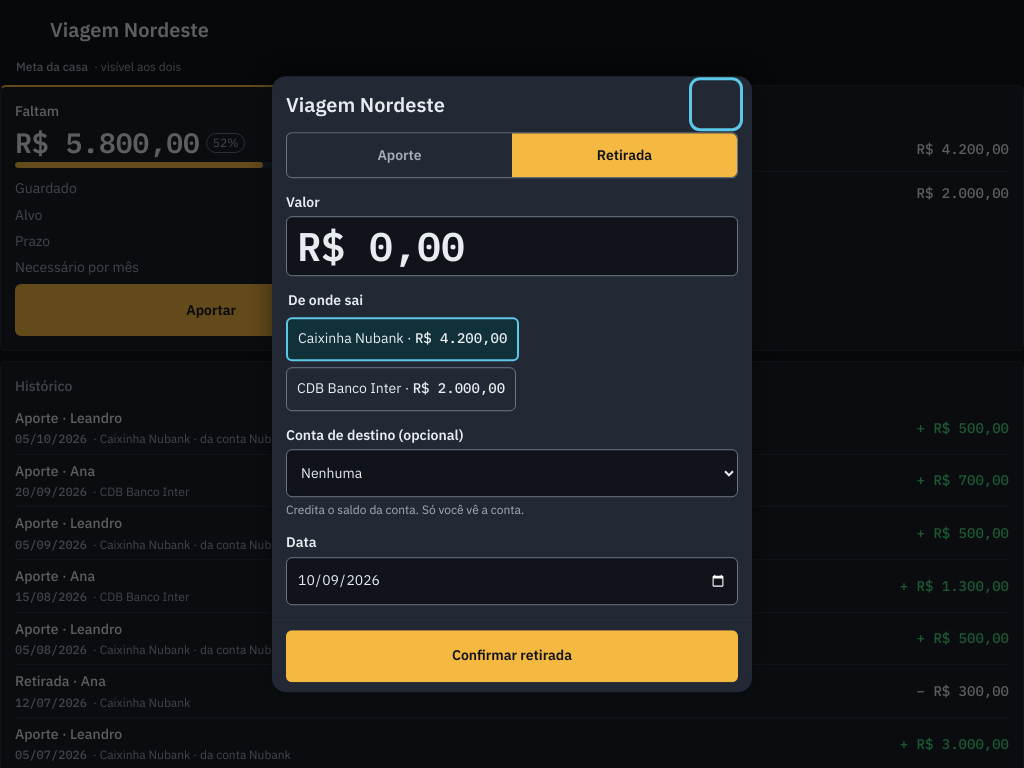
Test case: T13 retirada › envia o local escolhido
Click the radio button labelled "CDB Banco Inter · R$ 2.000,00": (401, 389) [286,367,516,411]
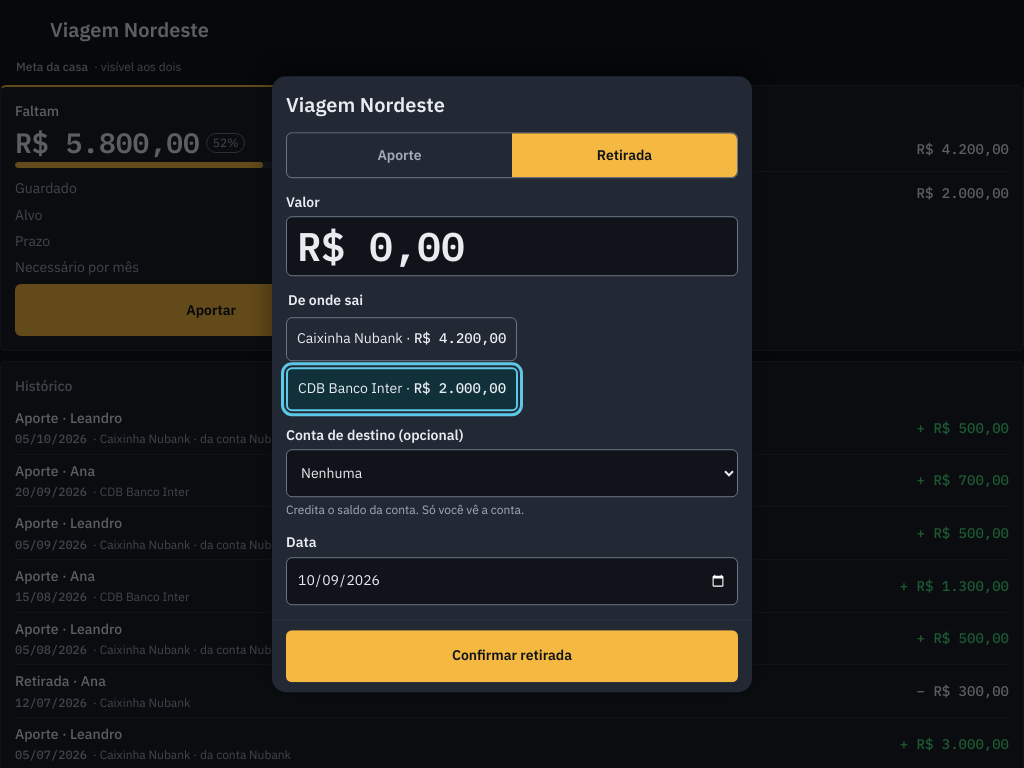
In the field labelled "Valor": (512, 246) [286,216,738,276], type "30000"
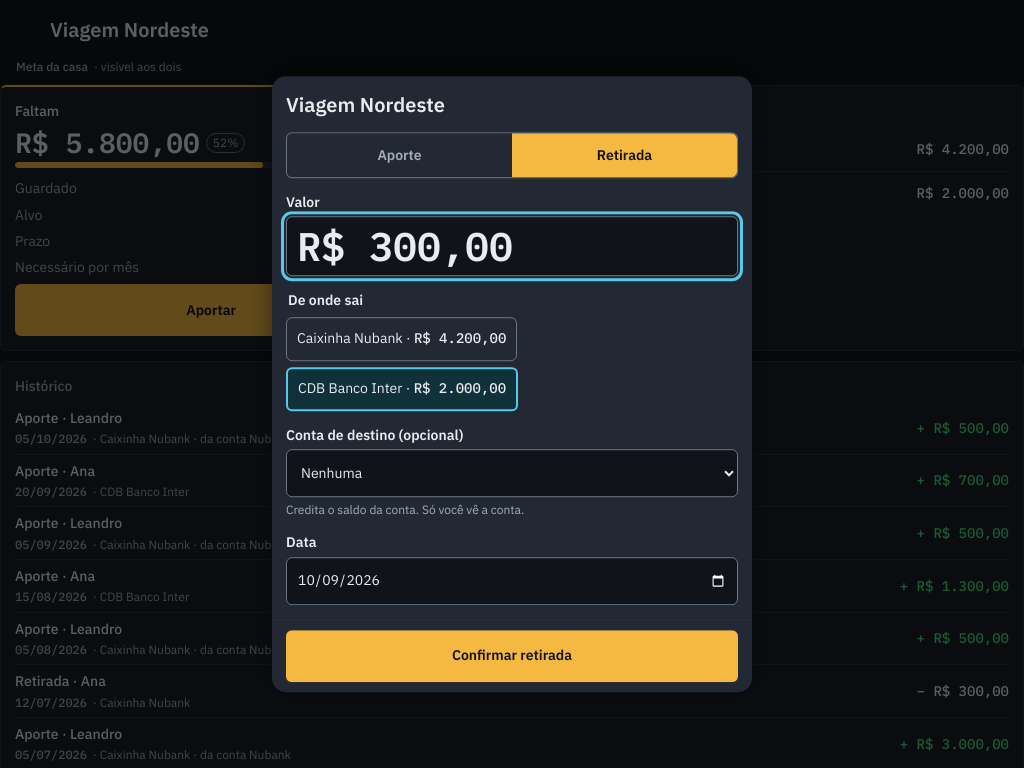
Click the button "Confirmar retirada": (512, 656) [286,630,738,682]
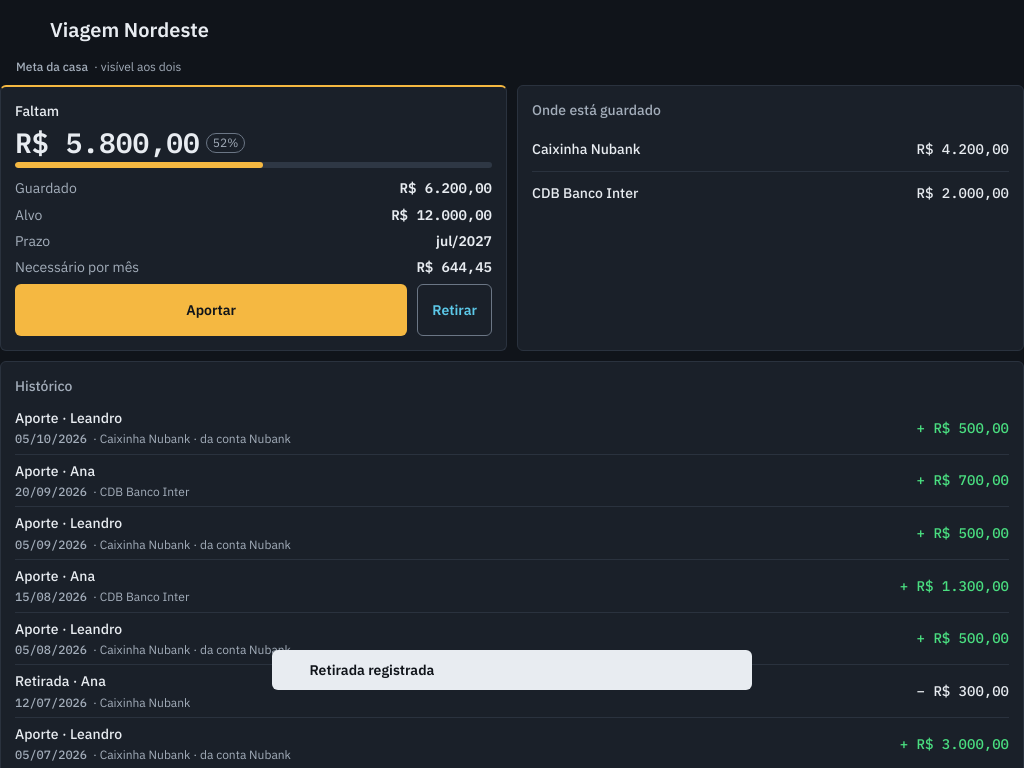
Now the text "Retirada registrada" is shown, box [310,660,434,680]
